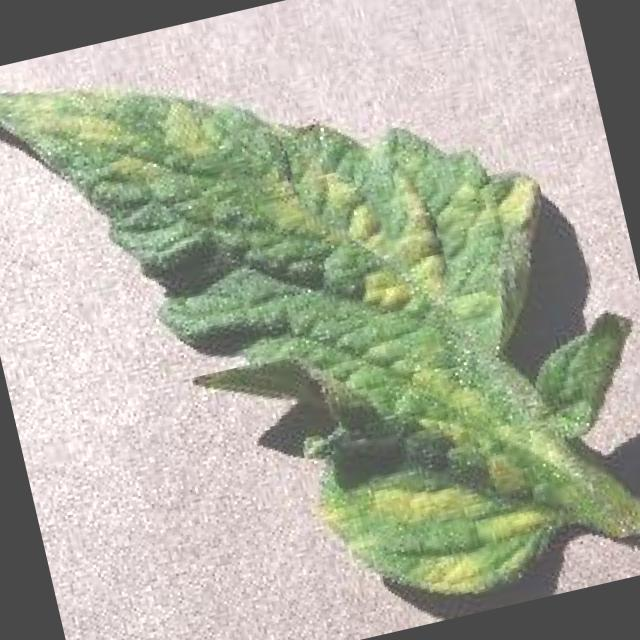leaf mold: (0, 89, 640, 596)
